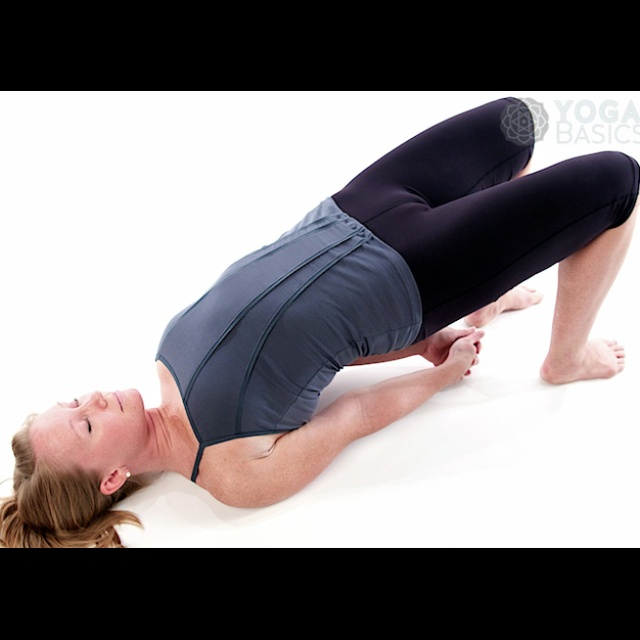Bridge_Pose: (4, 96, 639, 547)
